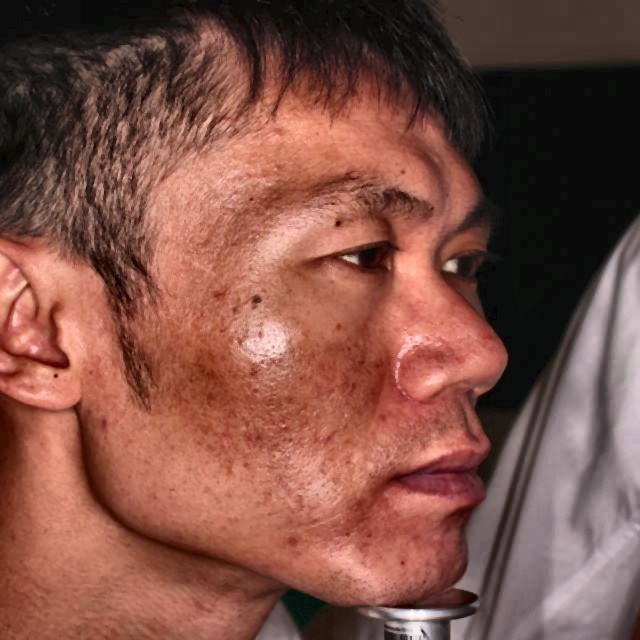comedone: (260, 123, 286, 147), (481, 330, 502, 353)
